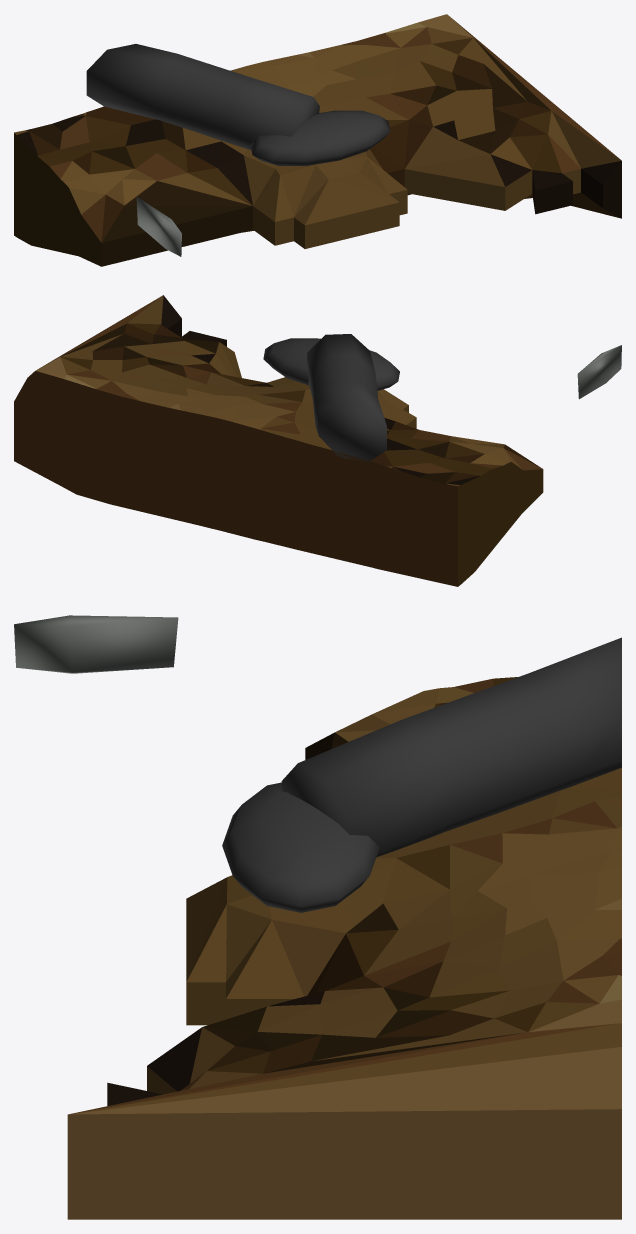
Rendered from newsh-caret-119.glb.
3 renders of one model, top to bottom at view 1: azimuth 30°, elevation 25°; view 2: azimuth 150°, elevation 25°; view 3: azimuth 270°, elevation 25°, orthographic. The views are drawn at different scales.
Visible parts, largest first — view 1: newsh-caret-119; view 2: newsh-caret-119; view 3: newsh-caret-119.
Boxes of the visible parts, x1,y1,x2,y2 form: newsh-caret-119: [14, 14, 621, 266]; newsh-caret-119: [14, 295, 621, 586]; newsh-caret-119: [14, 615, 621, 1219].
Size of the model in its own units: 2 by 0.6951 by 1.28.
